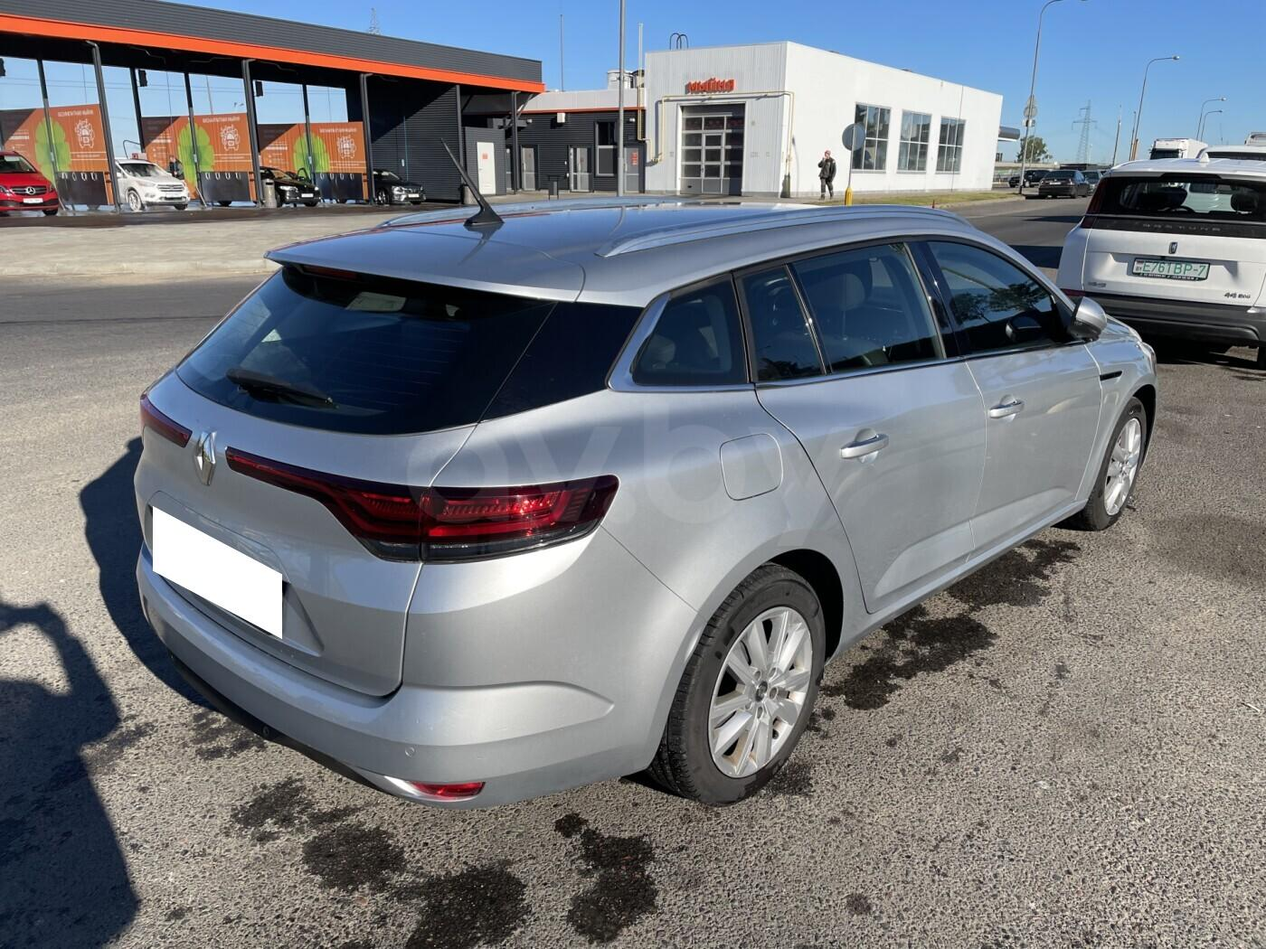Megane_2020: (121, 204, 1163, 798)
